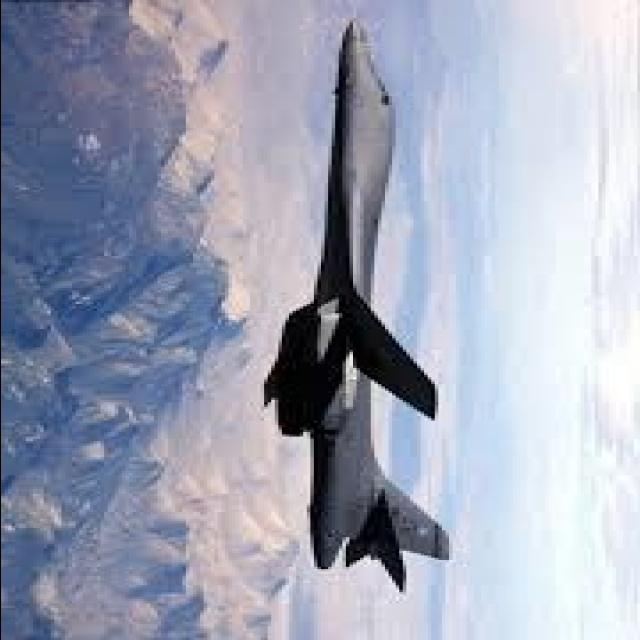B1: (231, 12, 484, 616)
